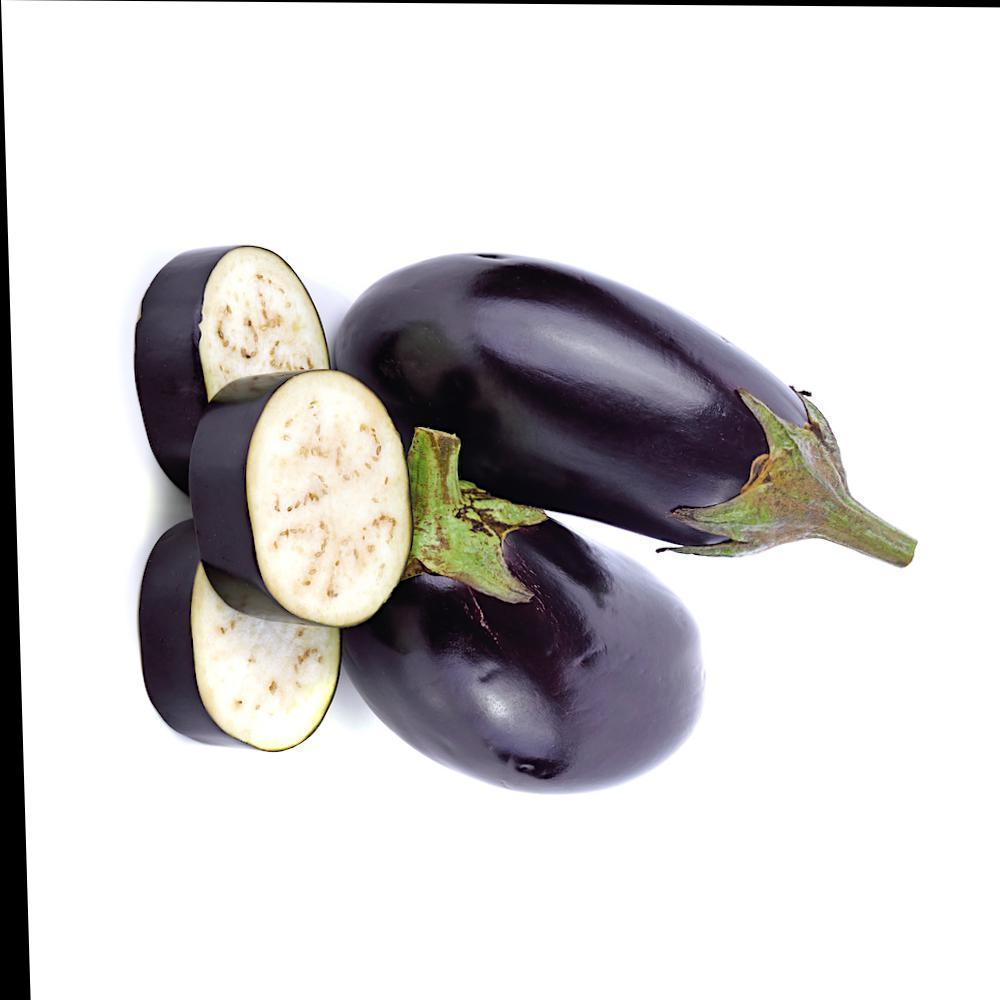eggplant: (151, 136, 948, 614), (132, 521, 738, 859)
